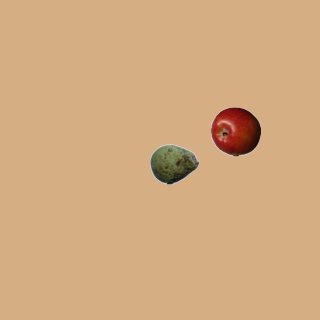Apple Braeburn: (210, 106, 260, 156)
Pear Stone: (149, 139, 199, 189)
